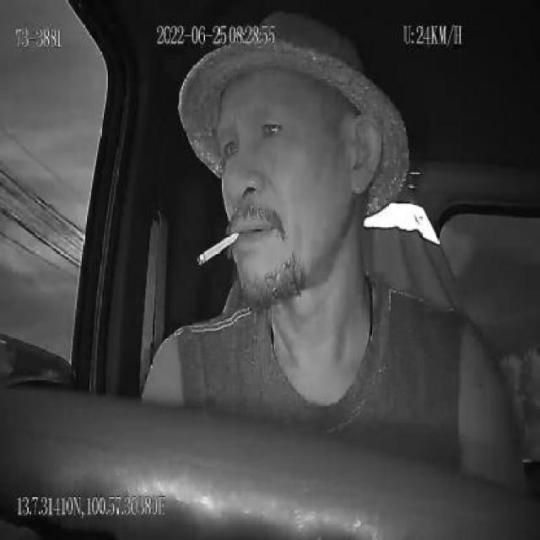smoking: (199, 226, 240, 266)
